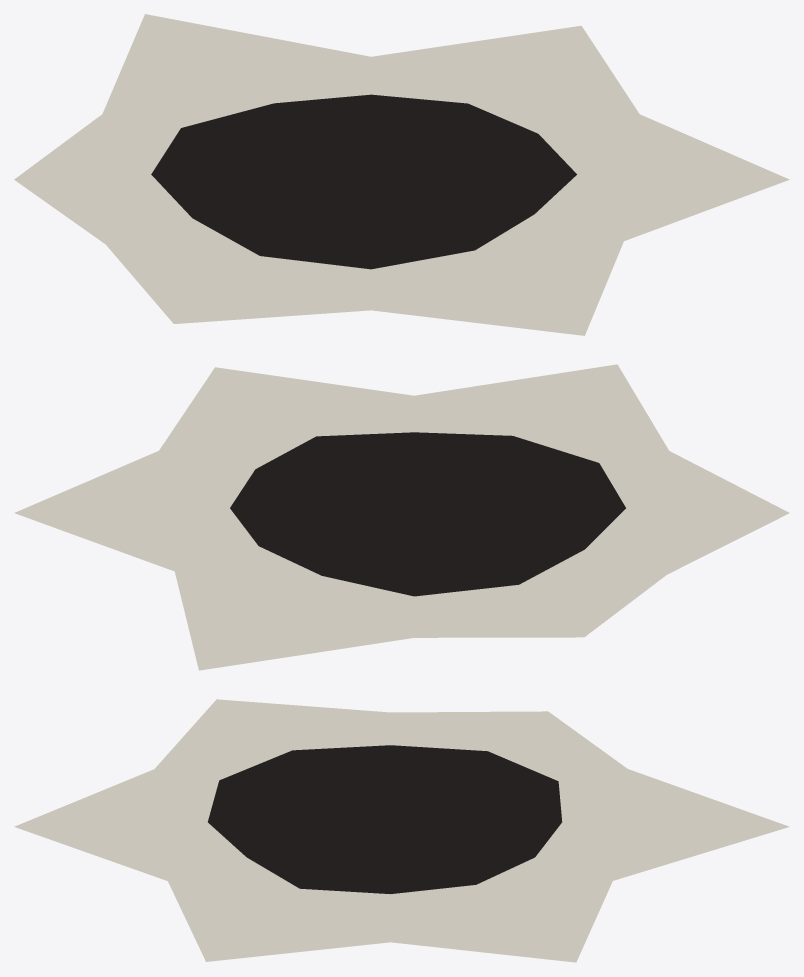
File: hole_wall_09.obj
3 renders of one model, top to bottom at view 1: azimuth 30°, elevation 25°; view 2: azimuth 150°, elevation 25°; view 3: azimuth 270°, elevation 25°, orthographic. The views are drawn at different scales.
Bounding box in the file's own units: 0.0496 × 0.0004 × 0.0617.
